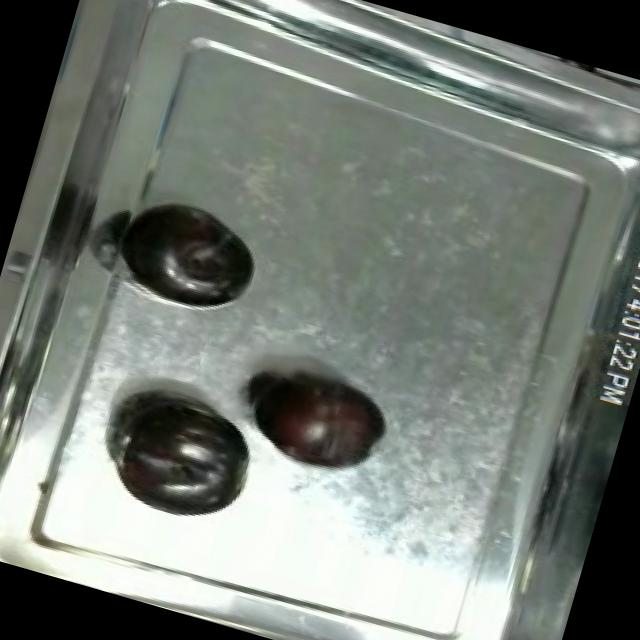Fruit: (94, 378, 268, 538), (106, 182, 276, 326), (234, 349, 401, 489)
